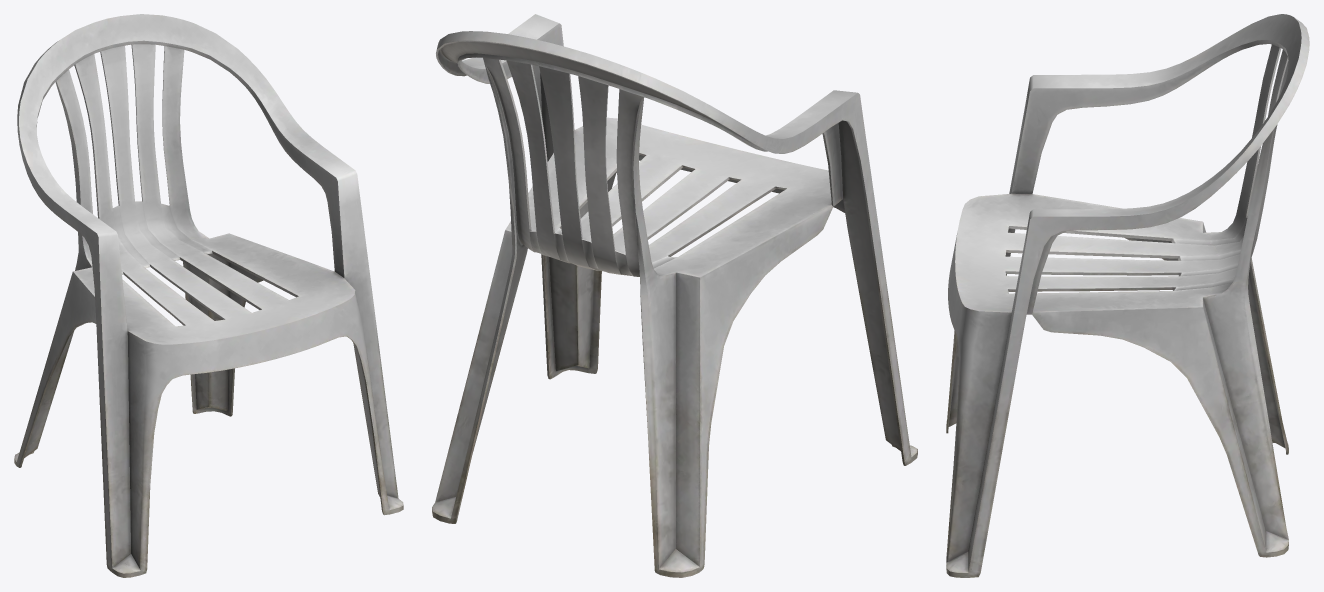
Rendered from plastic_monobloc_chair_01.glb.
3 views of the same model, side by side, from view 1: azimuth 30°, elevation 25°; view 2: azimuth 150°, elevation 25°; view 3: azimuth 270°, elevation 25° (orthographic). The views are drawn at different scales.
Visible parts, largest first — view 1: plastic_monobloc_chair_01; view 2: plastic_monobloc_chair_01; view 3: plastic_monobloc_chair_01.
Part boxes in pixels (x1,y1,x2,y2): plastic_monobloc_chair_01: (14,14,403,577); plastic_monobloc_chair_01: (432,14,917,577); plastic_monobloc_chair_01: (946,14,1309,577).
Size of the model in its own units: 0.6419 by 0.8798 by 0.6276.
1 material, 1 textured.
